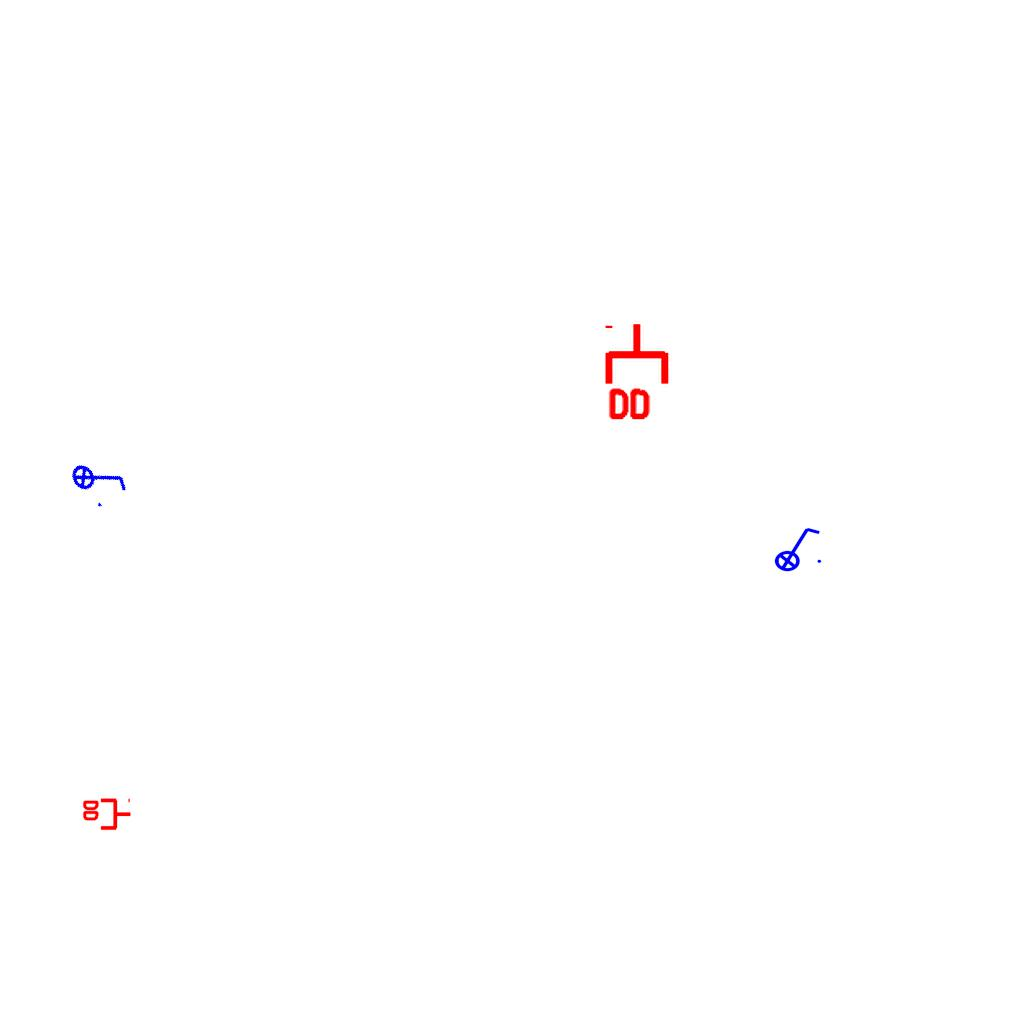Ausschalter_beleuchtet: (64, 441, 134, 515), (768, 524, 824, 572)
Datenanschluss_zweifach: (604, 321, 673, 424), (81, 798, 132, 832)
